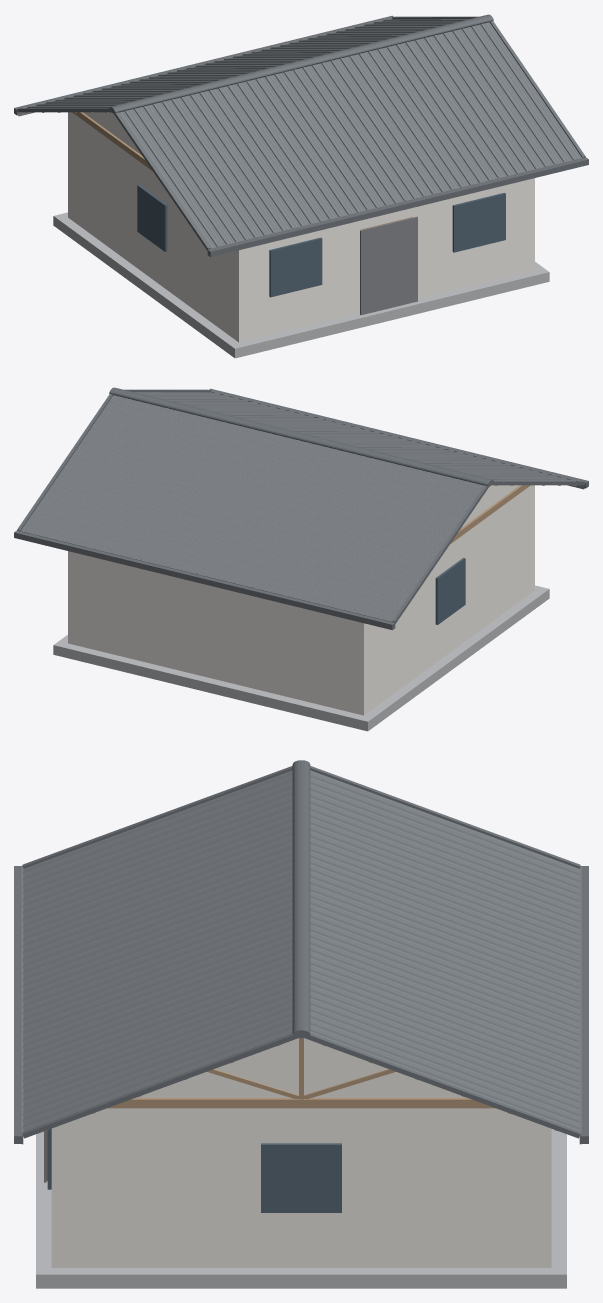
Rendered from Pico_Rib_1220_Single_Storey_8x8.glb.
3 renders of one model, top to bottom at view 1: azimuth 30°, elevation 25°; view 2: azimuth 150°, elevation 25°; view 3: azimuth 270°, elevation 25°, orthographic. The views are drawn at different scales.
Visible parts, largest first — view 1: GroundFloor_Walls, Foundation, RoofSheet_02, RoofSheet_07, RoofSheet_03, RoofSheet_04, RoofSheet_06, RoofSheet_09, RoofSheet_05, RoofSheet_08, RoofSheet_01, RoofSheet_10 (+24 smaller); view 2: GroundFloor_Walls, Foundation, RoofSheet_12, RoofSheet_17, RoofSheet_13, RoofSheet_14, RoofSheet_16, RoofSheet_19, RoofSheet_15, RoofSheet_18, RoofSheet_11, RoofSheet_20 (+21 smaller); view 3: GroundFloor_Walls, Foundation, Gable_Wall_Right, RoofSheet_02, RoofSheet_03, RoofSheet_07, RoofSheet_09, RoofSheet_12, RoofSheet_13, RoofSheet_17, RoofSheet_19, RoofSheet_05 (+22 smaller).
Boxes of the visible parts, x1=… form: GroundFloor_Walls: x1=68, y1=112, x2=534, y2=342; Foundation: x1=53, y1=212, x2=549, y2=358; RoofSheet_02: x1=154, y1=94, x2=283, y2=239; RoofSheet_07: x1=342, y1=49, x2=471, y2=193; RoofSheet_03: x1=192, y1=85, x2=321, y2=230; RoofSheet_04: x1=229, y1=76, x2=358, y2=220; RoofSheet_06: x1=304, y1=58, x2=433, y2=202; RoofSheet_09: x1=417, y1=30, x2=546, y2=175; RoofSheet_05: x1=267, y1=67, x2=396, y2=211; RoofSheet_08: x1=379, y1=40, x2=508, y2=184; RoofSheet_01: x1=119, y1=104, x2=246, y2=247; RoofSheet_10: x1=454, y1=22, x2=581, y2=166; GroundFloor_Walls: x1=68, y1=485, x2=534, y2=715; Foundation: x1=53, y1=585, x2=549, y2=731; RoofSheet_12: x1=319, y1=467, x2=448, y2=612; RoofSheet_17: x1=131, y1=422, x2=260, y2=566; RoofSheet_13: x1=281, y1=458, x2=410, y2=603; RoofSheet_14: x1=244, y1=449, x2=373, y2=593; RoofSheet_16: x1=169, y1=431, x2=298, y2=575; RoofSheet_19: x1=56, y1=403, x2=185, y2=548; RoofSheet_15: x1=206, y1=440, x2=335, y2=584; RoofSheet_18: x1=94, y1=413, x2=223, y2=557; RoofSheet_11: x1=356, y1=477, x2=483, y2=620; RoofSheet_20: x1=21, y1=395, x2=148, y2=539; GroundFloor_Walls: x1=51, y1=1108, x2=551, y2=1267; Foundation: x1=36, y1=1129, x2=566, y2=1288; Gable_Wall_Right: x1=136, y1=1038, x2=466, y2=1097; RoofSheet_02: x1=22, y1=794, x2=292, y2=919; RoofSheet_03: x1=22, y1=821, x2=292, y2=946; RoofSheet_07: x1=22, y1=928, x2=292, y2=1053; RoofSheet_09: x1=22, y1=981, x2=292, y2=1106; RoofSheet_12: x1=310, y1=794, x2=580, y2=919; RoofSheet_13: x1=310, y1=821, x2=580, y2=946; RoofSheet_17: x1=310, y1=928, x2=580, y2=1053; RoofSheet_19: x1=310, y1=981, x2=580, y2=1106; RoofSheet_05: x1=22, y1=874, x2=292, y2=999.
Size of the model in its own units: 10.23 by 4.97 by 9.2.
